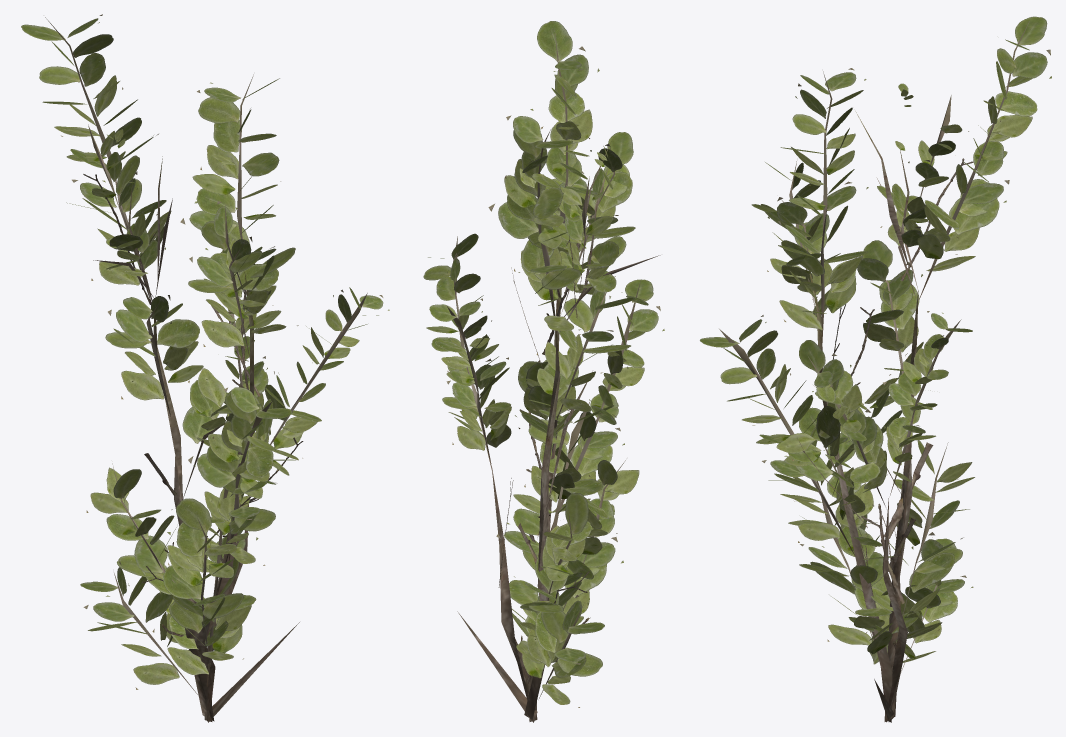
Rendered from bush_green_g.glb.
The picture shows the model from 3 angles, left to right: view 1: azimuth 30°, elevation 25°; view 2: azimuth 150°, elevation 25°; view 3: azimuth 270°, elevation 25°; orthographic projection.
Parts seen in each view (by area): view 1: bush_green_g; view 2: bush_green_g; view 3: bush_green_g.
Boxes of the visible parts, box(x1,y1,x2,y2) form: bush_green_g: box(21, 14, 389, 722); bush_green_g: box(423, 21, 664, 722); bush_green_g: box(700, 16, 1051, 722).
Size of the model in its own units: 0.3284 by 0.7867 by 0.385.
2 materials, 2 textured.
